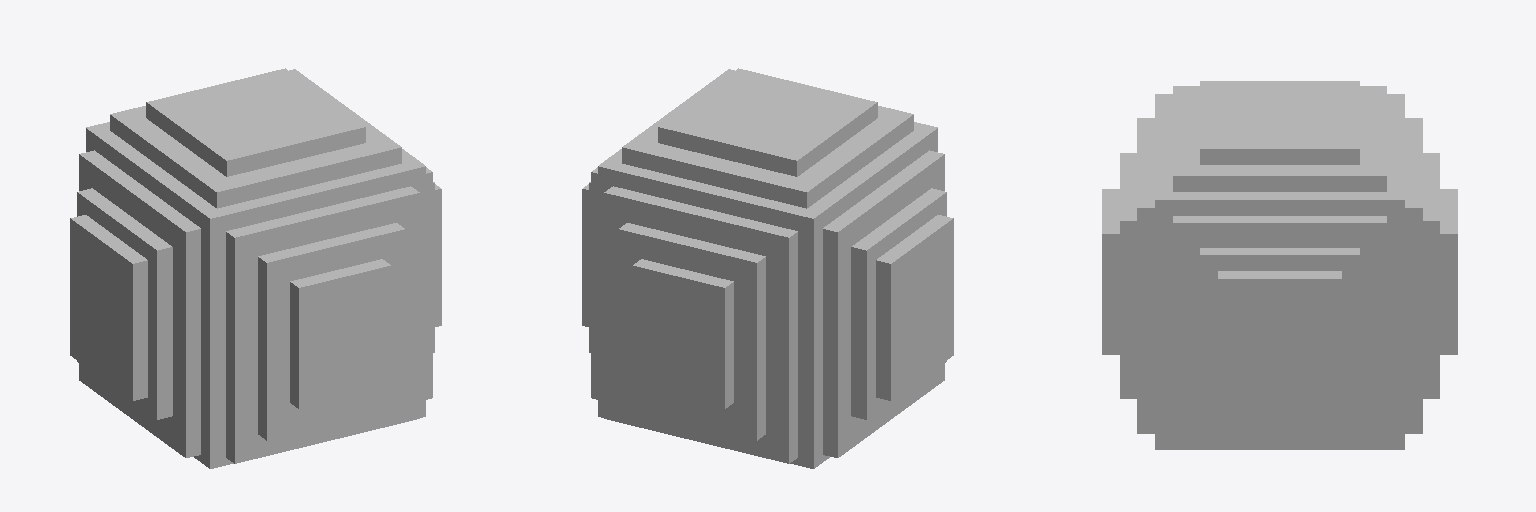
Rendered from bush.obj.
3 renders of one model, left to right at view 1: azimuth 30°, elevation 25°; view 2: azimuth 150°, elevation 25°; view 3: azimuth 270°, elevation 25°, orthographic.
Parts seen in each view (by area): view 1: bush; view 2: bush; view 3: bush.
Boxes of the visible parts, box(x1,y1,x2,y2) form: bush: box(70, 68, 441, 468); bush: box(582, 68, 953, 468); bush: box(1102, 81, 1457, 449).
Size of the model in its own units: 40 by 35 by 40.